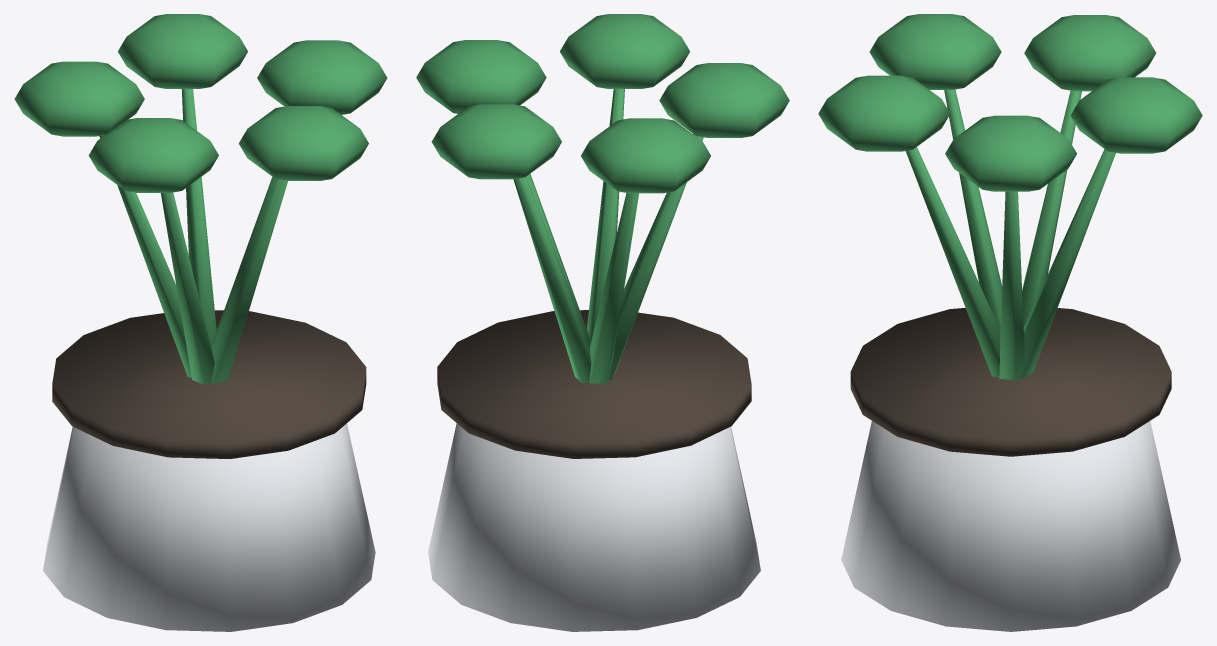
The model's file is plant_small_mini_pod.glb.
3 views of the same model, side by side, from view 1: azimuth 30°, elevation 25°; view 2: azimuth 150°, elevation 25°; view 3: azimuth 270°, elevation 25° (orthographic).
Visible parts, largest first — view 1: GD_plant_small_mini_pod__m0, GD_plant_small_mini_pod__m2, GD_plant_small_mini_pod__m1; view 2: GD_plant_small_mini_pod__m0, GD_plant_small_mini_pod__m2, GD_plant_small_mini_pod__m1; view 3: GD_plant_small_mini_pod__m2, GD_plant_small_mini_pod__m0, GD_plant_small_mini_pod__m1.
Boxes of the visible parts, <box> form: GD_plant_small_mini_pod__m0: <box>43,423,375,631</box>; GD_plant_small_mini_pod__m2: <box>14,14,387,384</box>; GD_plant_small_mini_pod__m1: <box>52,310,366,458</box>; GD_plant_small_mini_pod__m0: <box>428,423,760,631</box>; GD_plant_small_mini_pod__m2: <box>416,14,789,383</box>; GD_plant_small_mini_pod__m1: <box>437,310,751,458</box>; GD_plant_small_mini_pod__m2: <box>818,14,1202,380</box>; GD_plant_small_mini_pod__m0: <box>841,421,1180,631</box>; GD_plant_small_mini_pod__m1: <box>850,308,1171,456</box>.
Bounding box in the file's own units: 0.1903 × 0.2875 × 0.2036.
